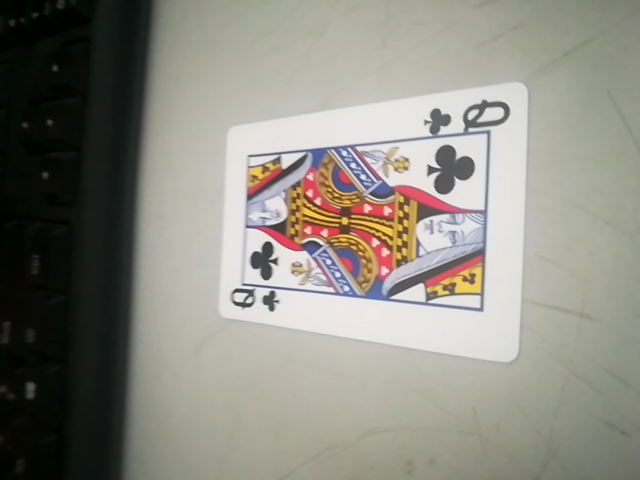mh q: (218, 89, 534, 364)
